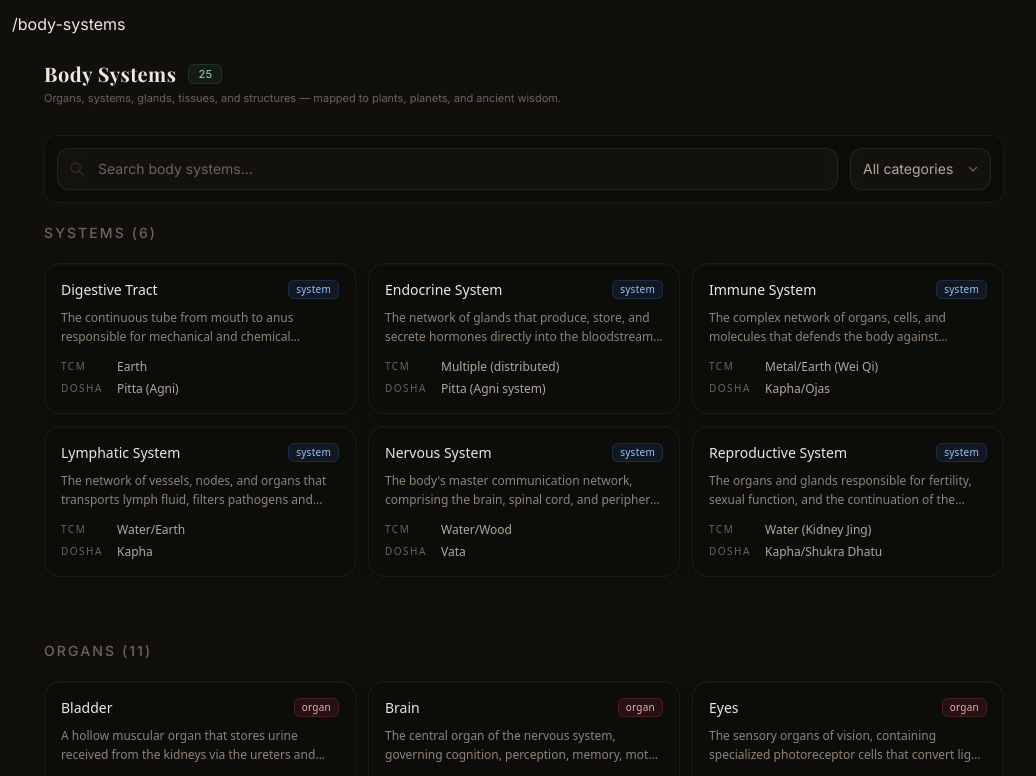
it: BodySystemsList — canonical catalog of body systems › filters by category and syncs to URL
expect the heading "Body Systems" is shown: met, box [44,60,176,88]
Select "Organs" in the dropdown named "category" at (920, 168), box [850,148,991,190]
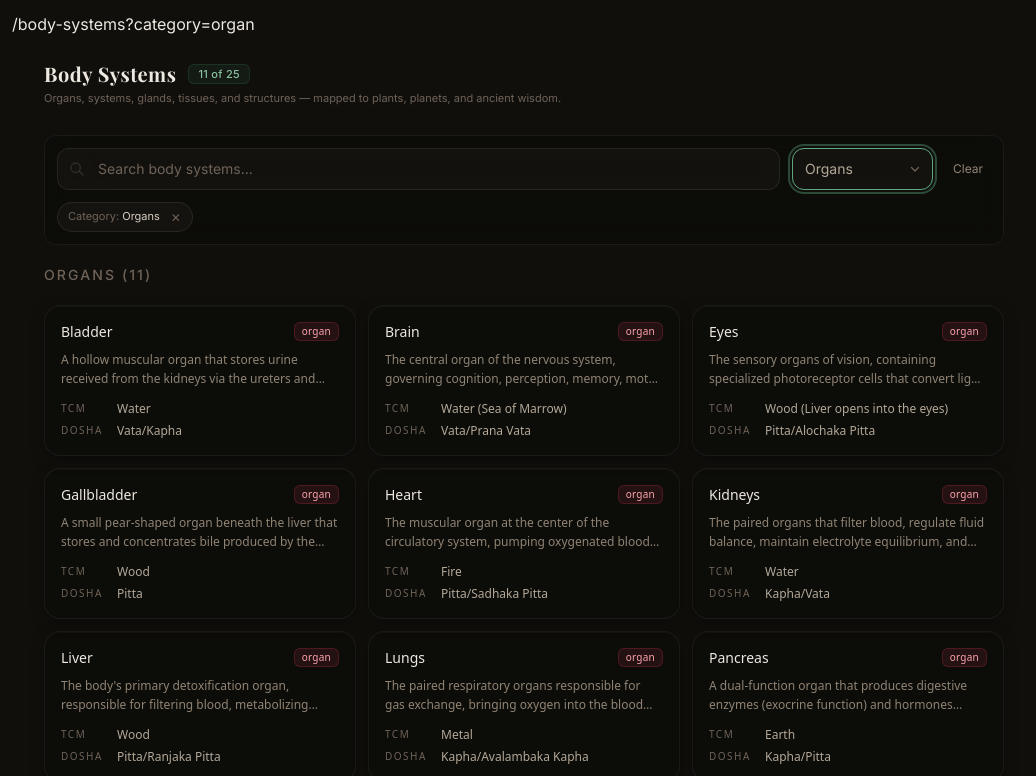
expect the text with test id "location-probe" shows "category=organ": met, box [12,14,255,34]
